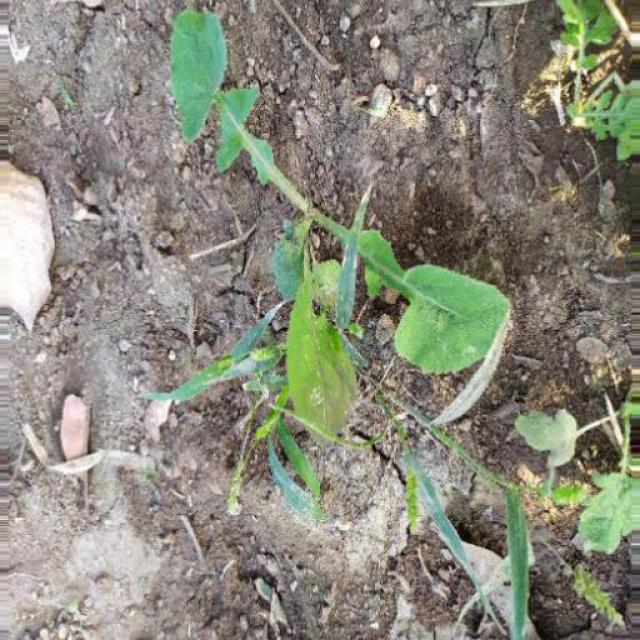weed: (116, 1, 522, 490)
